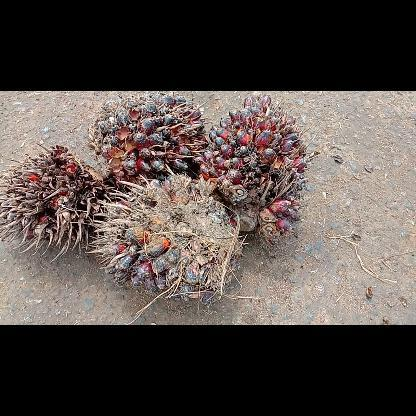TBS abnormal: (91, 173, 242, 299), (201, 95, 315, 238), (0, 142, 110, 260), (89, 91, 209, 187)
